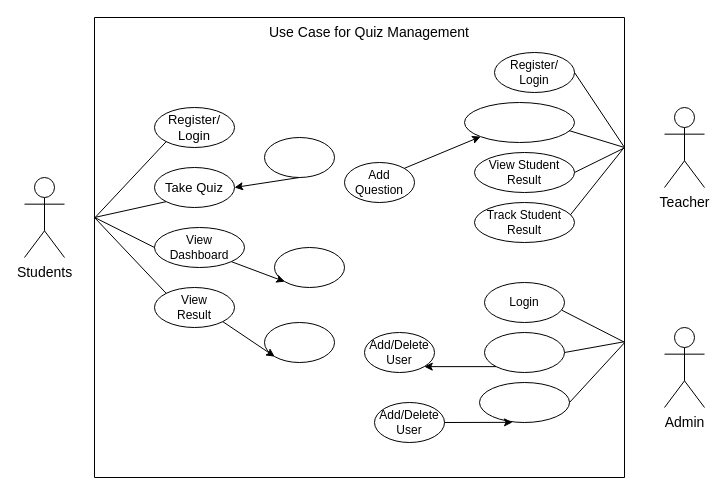
The diagram is 727 pixels wide and 495 high, and some of its shapes have lost their labels. The centre of each missing label's shape, as x and y in pixels:
Create/Update/ Delete Quiz: point (519, 122)
Download Report: point (299, 342)
Manage Quizzes: point (524, 402)
Manage Users: point (524, 352)
Submit Quiz: point (299, 157)
Track Progress: point (309, 267)
